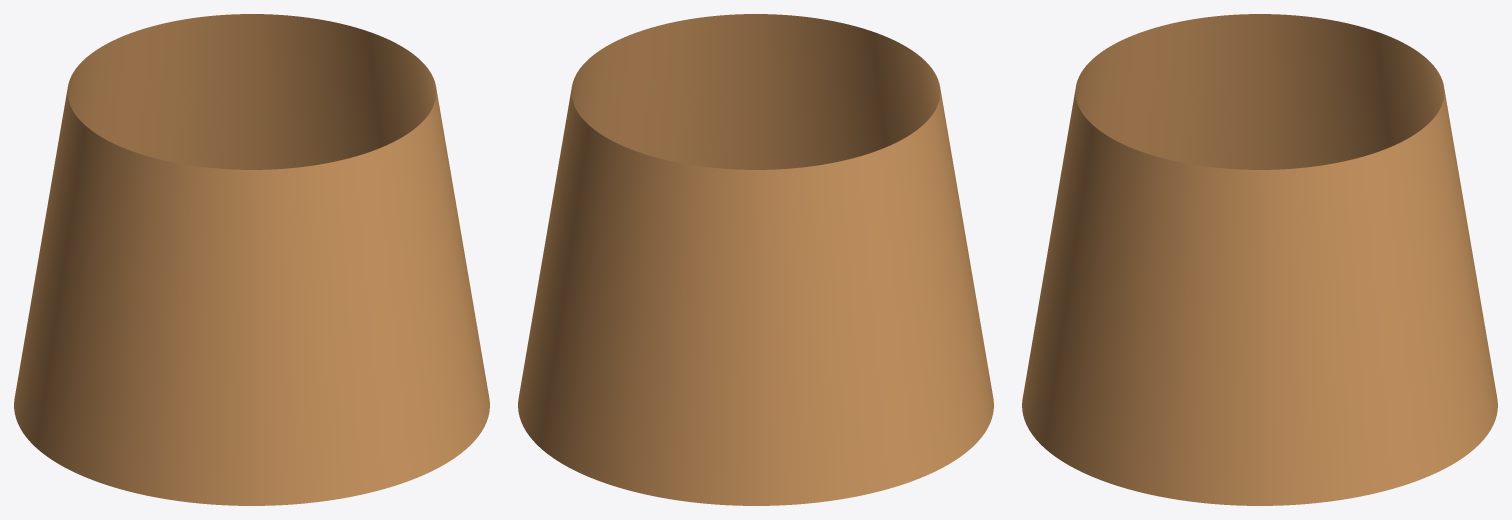
The model's file is rotator.fbx.
The picture shows the model from 3 angles, left to right: view 1: azimuth 30°, elevation 25°; view 2: azimuth 150°, elevation 25°; view 3: azimuth 270°, elevation 25°; orthographic projection.
Parts seen in each view (by area): view 1: Table.001; view 2: Table.001; view 3: Table.001.
Boxes of the visible parts, x1,y1,x2,y2 form: Table.001: (14, 14, 489, 505); Table.001: (518, 14, 993, 505); Table.001: (1022, 14, 1497, 505).
Size of the model in its own units: 189 by 138 by 189.
